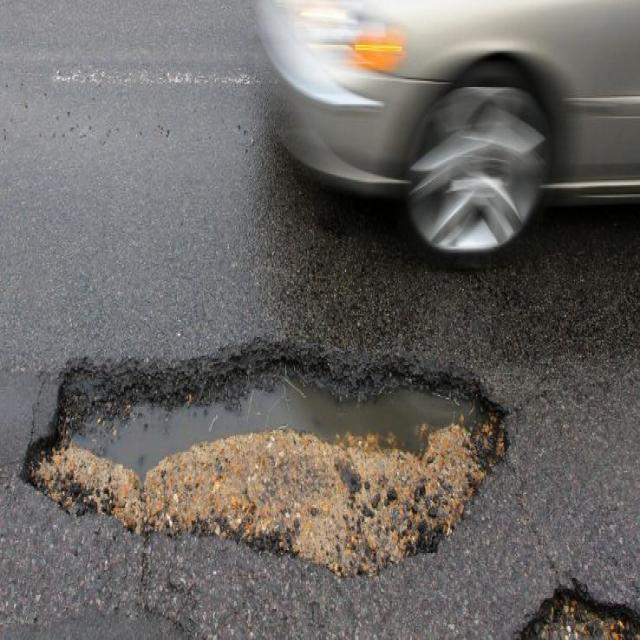Pothole: (17, 345, 518, 578)
